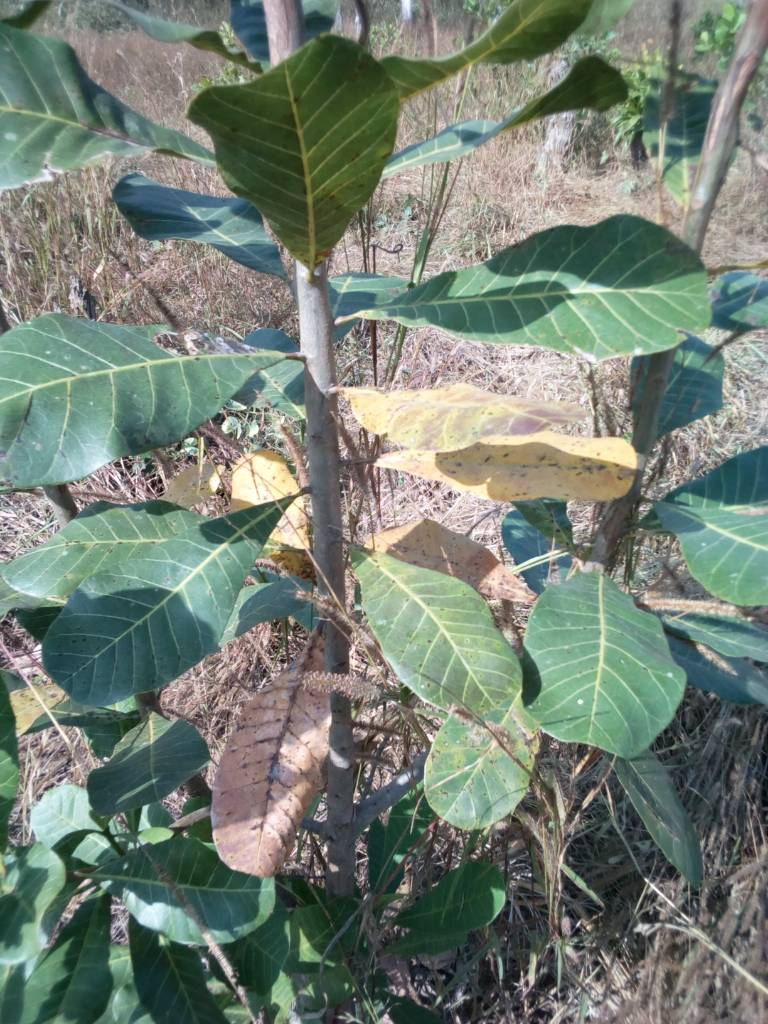Anthracnose: (40, 496, 283, 710), (188, 35, 399, 275), (372, 433, 635, 503)
